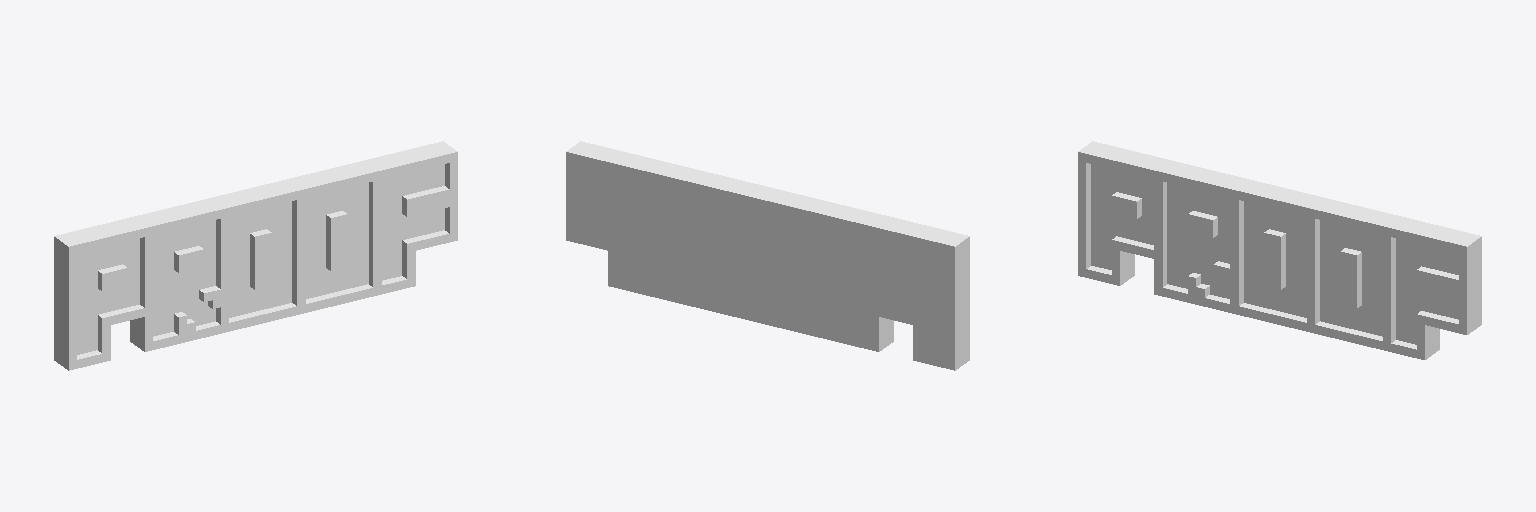
The picture shows the model from 3 angles: view 1: azimuth 30°, elevation 25°; view 2: azimuth 150°, elevation 25°; view 3: azimuth 330°, elevation 25°; orthographic projection.
Parts seen in each view (by area): view 1: proof; view 2: proof; view 3: proof.
Boxes of the visible parts, <box> form: proof: <box>54,141,457,370</box>; proof: <box>566,141,969,370</box>; proof: <box>1078,141,1481,359</box>.
Size of the model in its own units: 4.6 by 1.4 by 0.3.
1 materials, 1 textured.